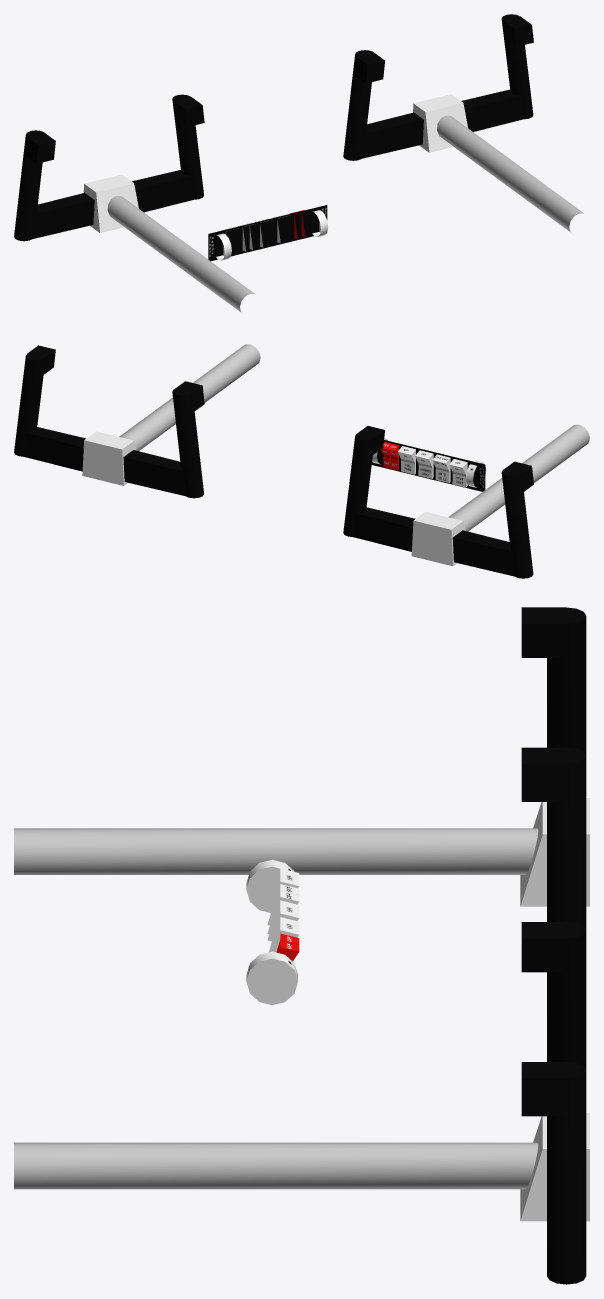
Rendered from interior.gltf.
3 views of the same model, one above another, from view 1: azimuth 30°, elevation 25°; view 2: azimuth 150°, elevation 25°; view 3: azimuth 270°, elevation 25° (orthographic). The views are drawn at different scales.
Parts seen in each view (by area): view 1: Interior; view 2: Interior; view 3: Interior.
Boxes of the visible parts, left/top/right/bottom form: Interior: left=14, top=14, right=583, bottom=313; Interior: left=14, top=344, right=589, bottom=578; Interior: left=14, top=607, right=589, bottom=1284.
Bounding box in the file's own units: 0.7533 × 0.1432 × 0.3715.
Materials: 5 (2 with a texture image).
